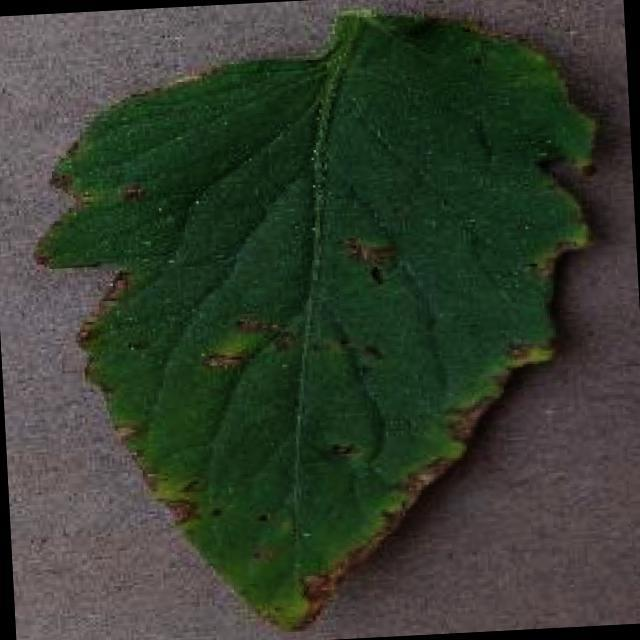Tomato bacterial spot leaf: (13, 0, 634, 640)
